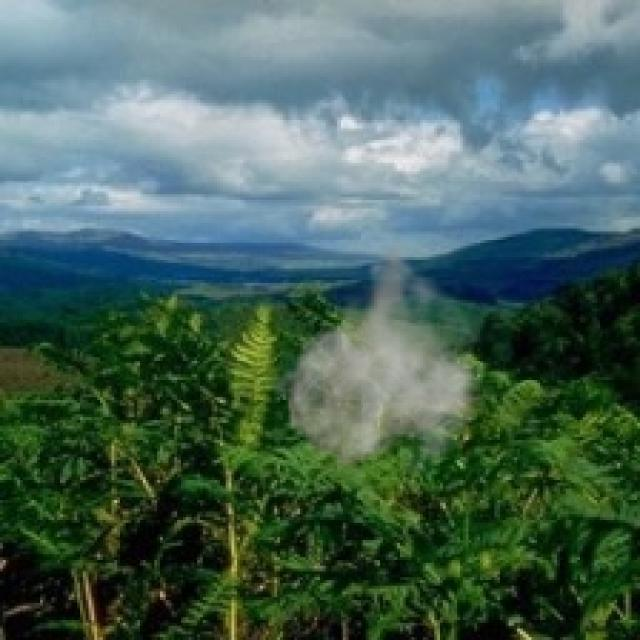Smoke: (268, 234, 488, 492)
